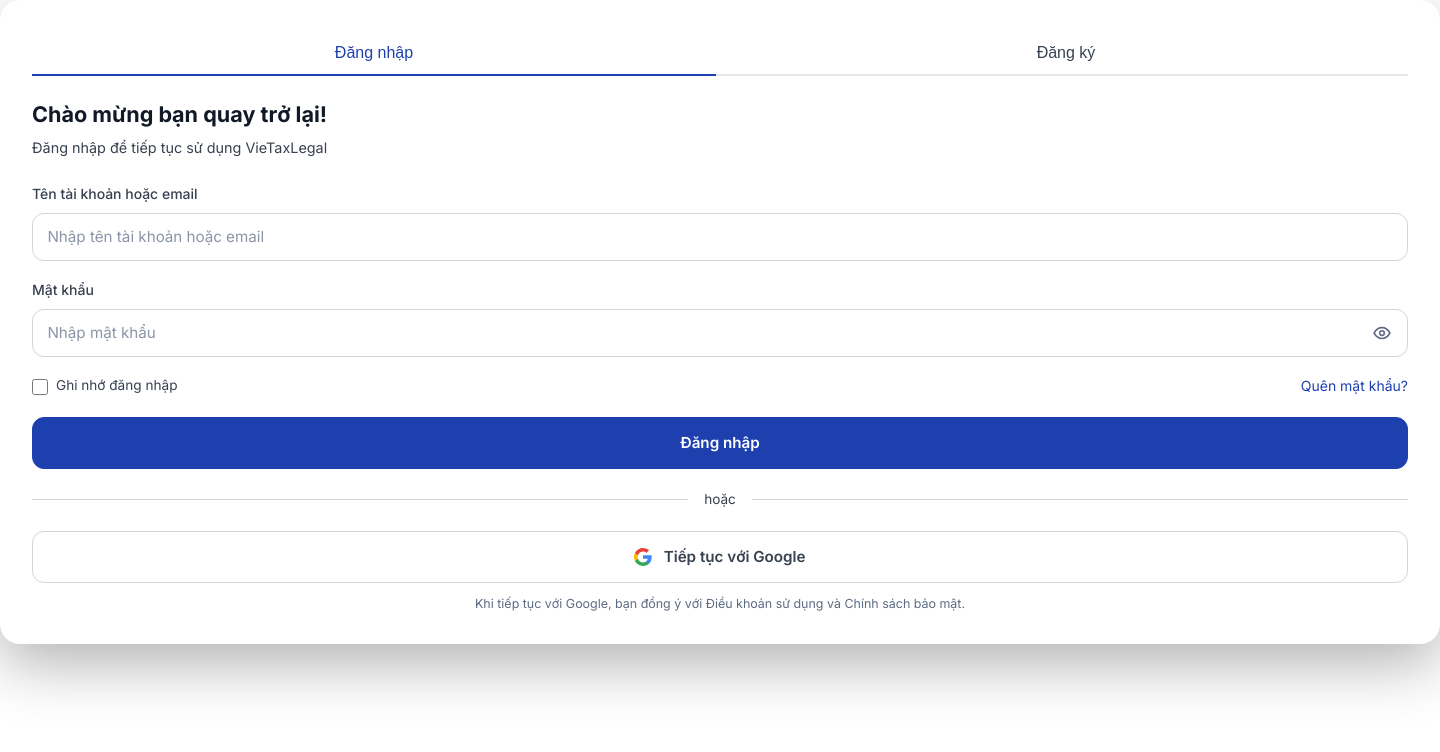
Test case: AuthCard email verification at sign-up › locks the email and shows the tick once the code is accepted
The image size is (1440, 752).
Click the tab "Đăng ký" at (1066, 54), box x1=724 y1=32 x2=1408 y2=76
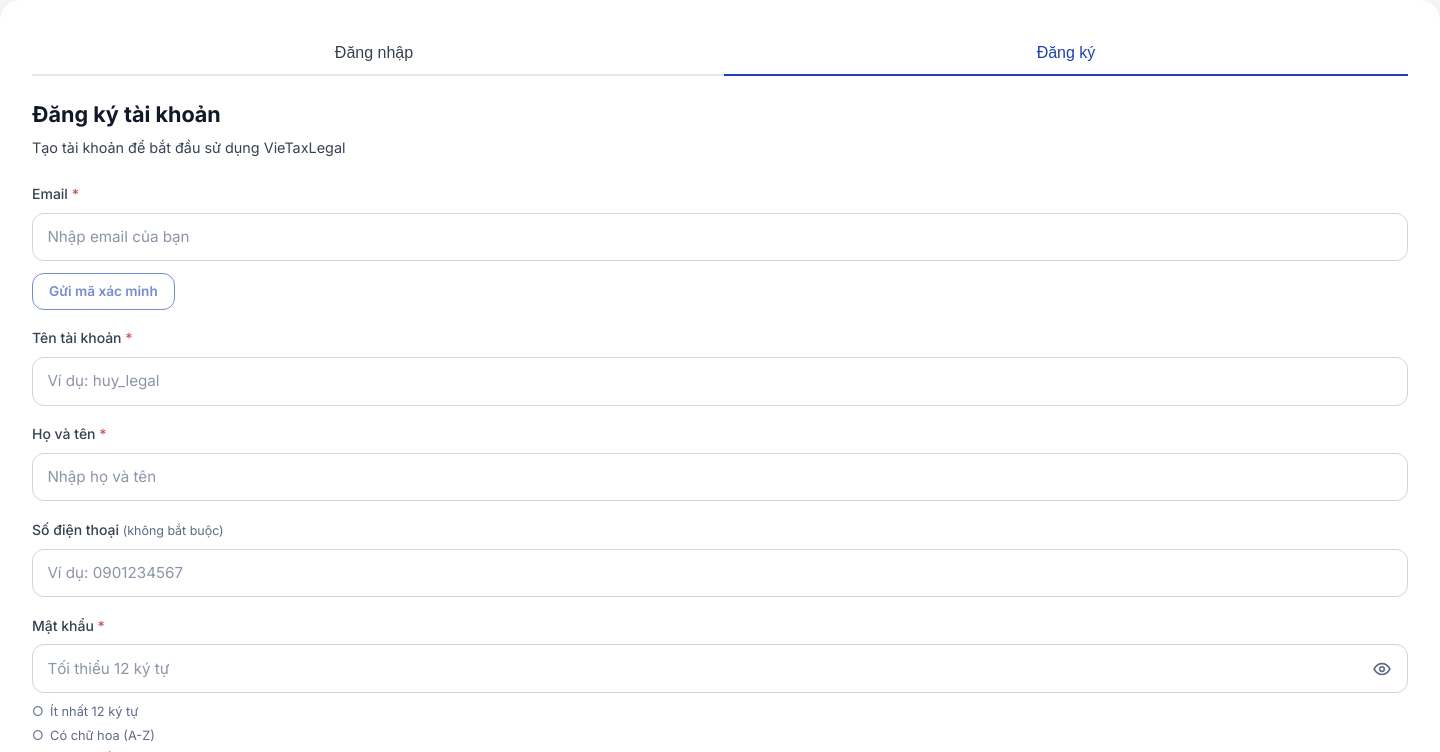
Type "huy@example.com" into the field labelled "Email *" at (720, 237), box x1=32 y1=213 x2=1408 y2=261
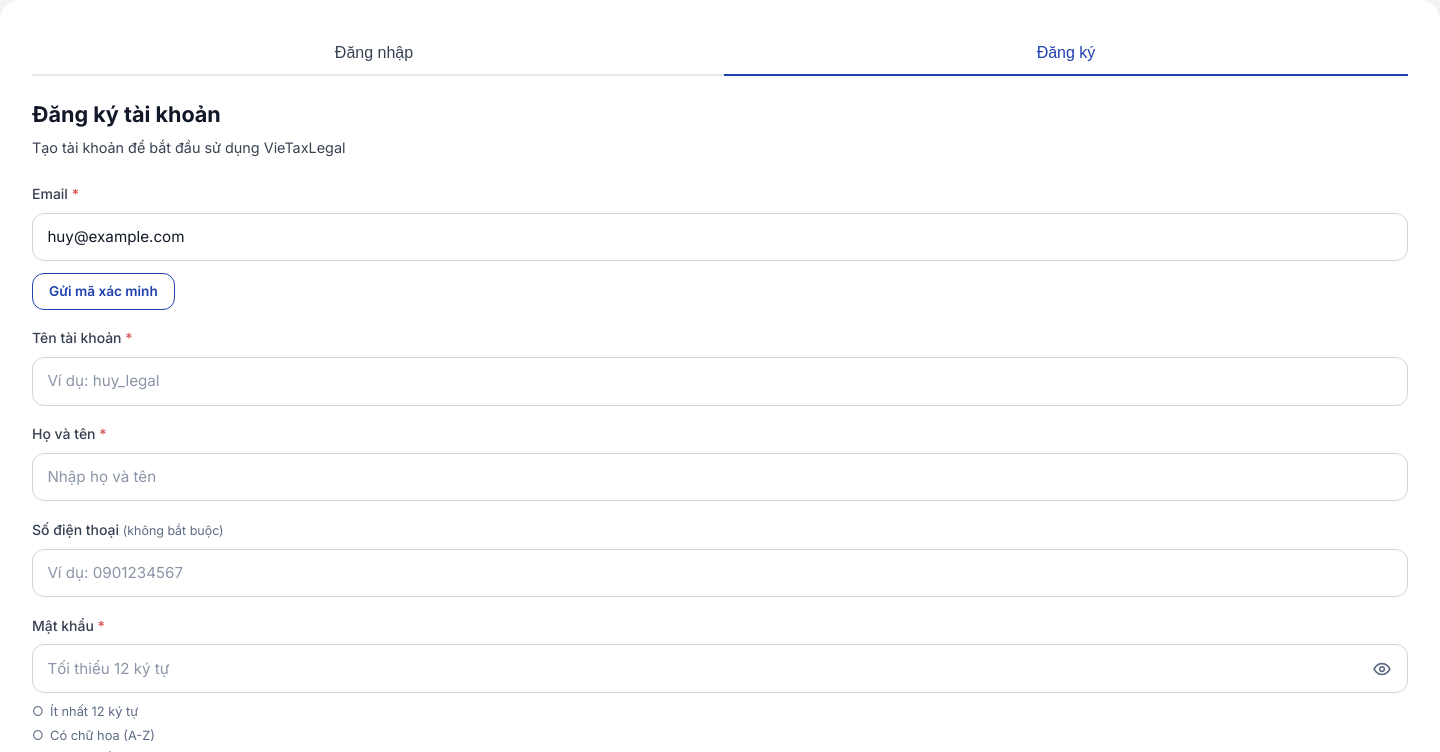
Click the button "Gửi mã xác minh" at (103, 291), box x1=32 y1=273 x2=175 y2=310
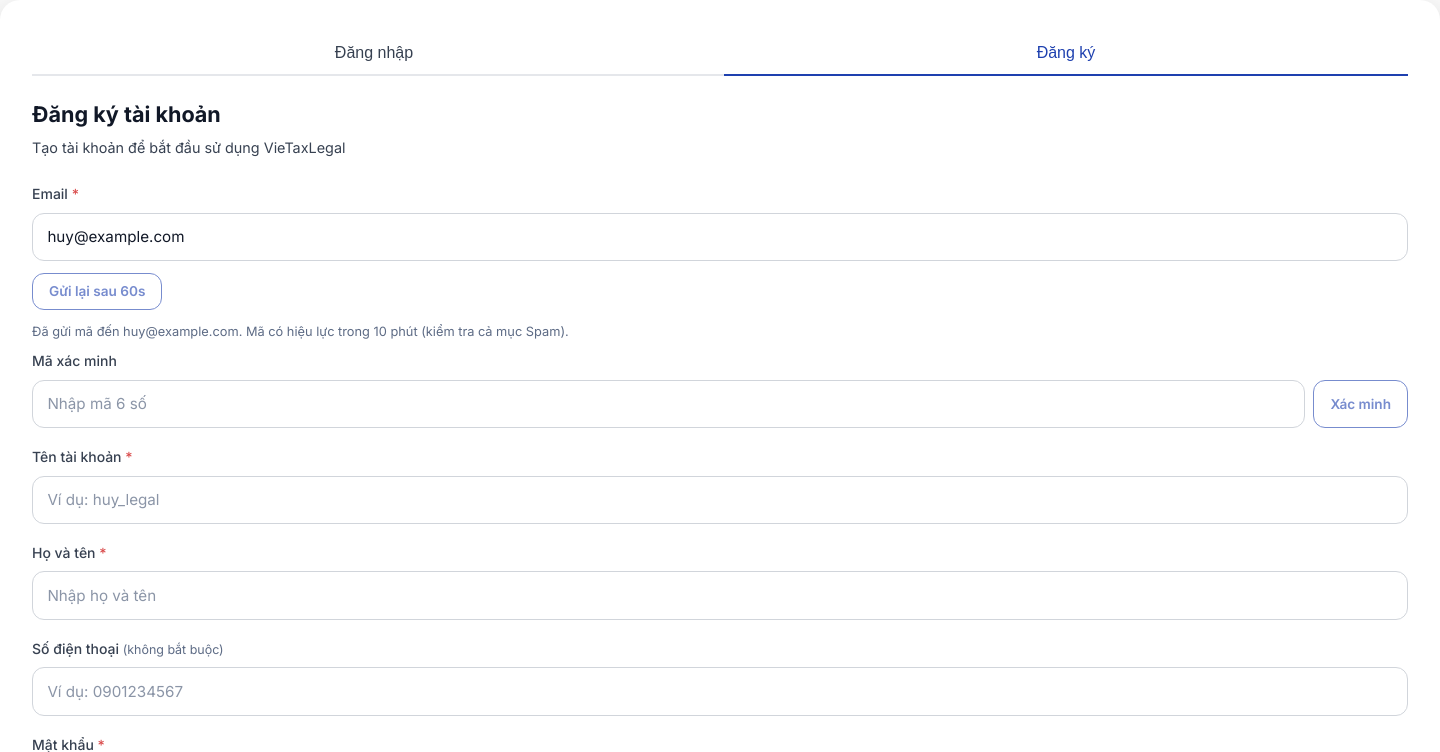
Type "12a3456" into the field labelled "Mã xác minh" at (669, 404), box x1=32 y1=380 x2=1305 y2=428
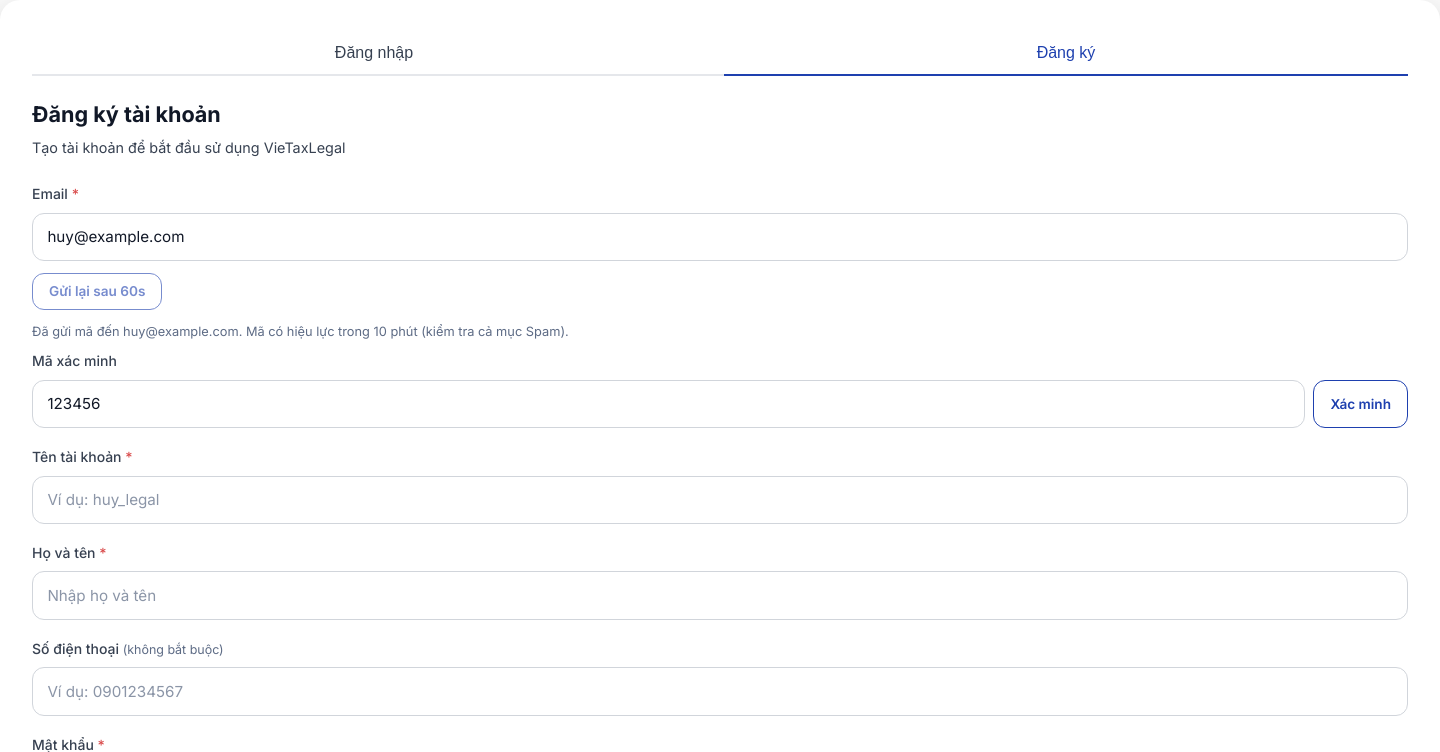
Click the button "Xác minh" at (1361, 404), box x1=1313 y1=380 x2=1408 y2=428
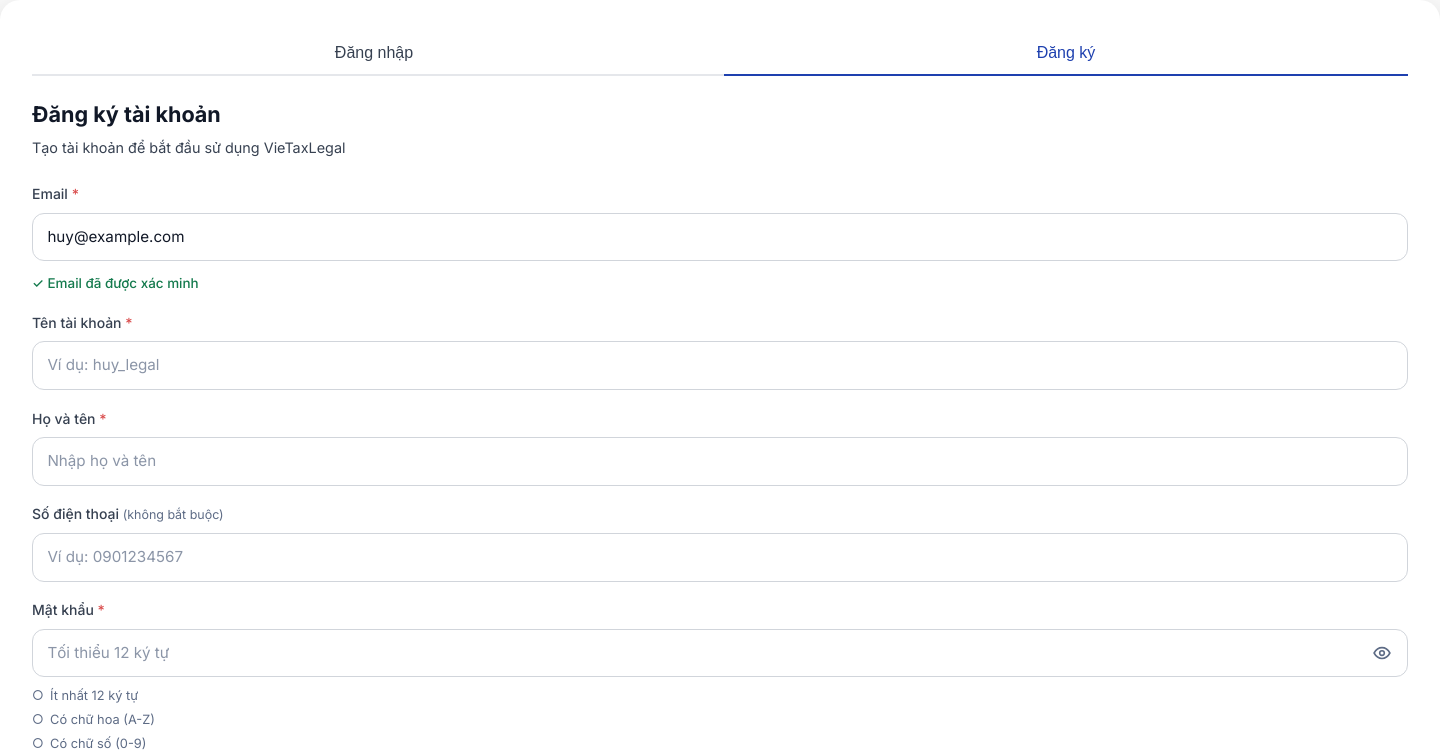
Expected: the message shows "Email đã được xác minh", x1=48 y1=275 x2=199 y2=291
